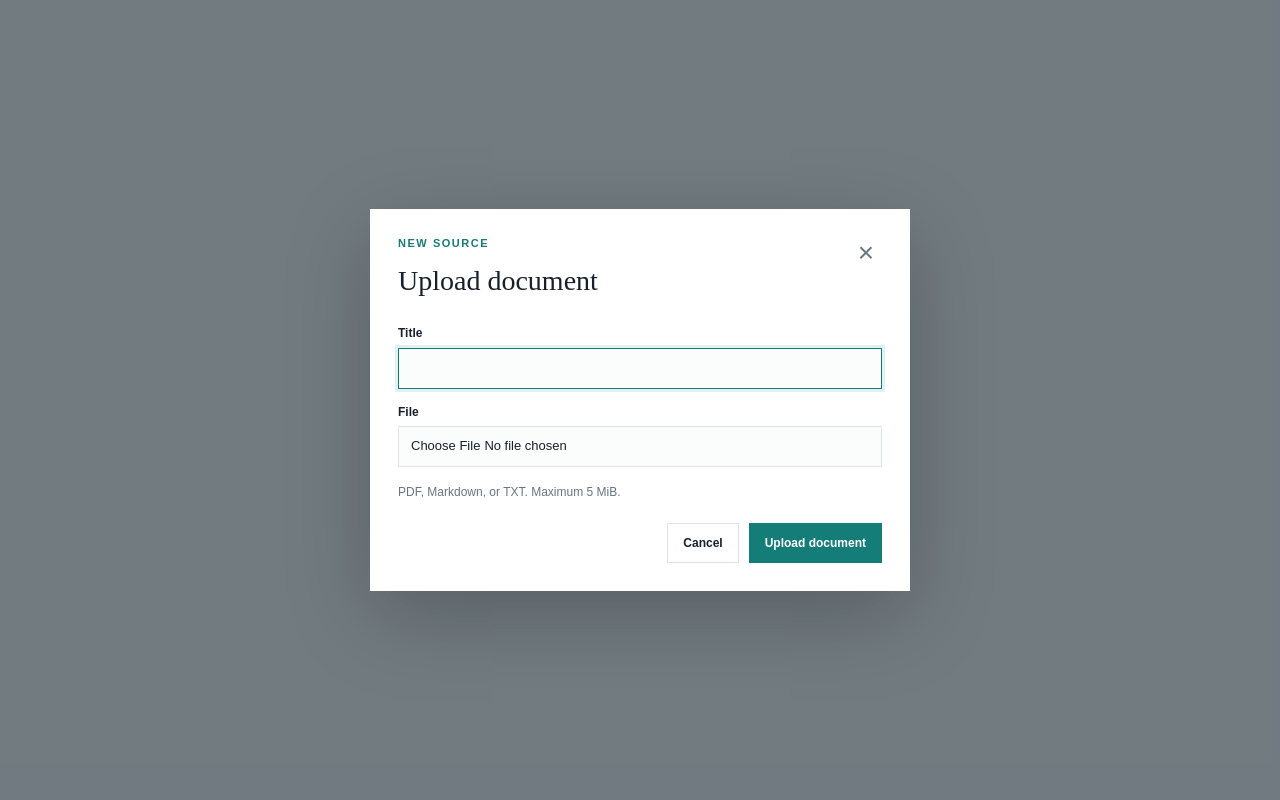
Test case: UploadDocumentDialog › validates required title and file
Click the button "Upload document": (815, 543) [749, 523, 882, 563]
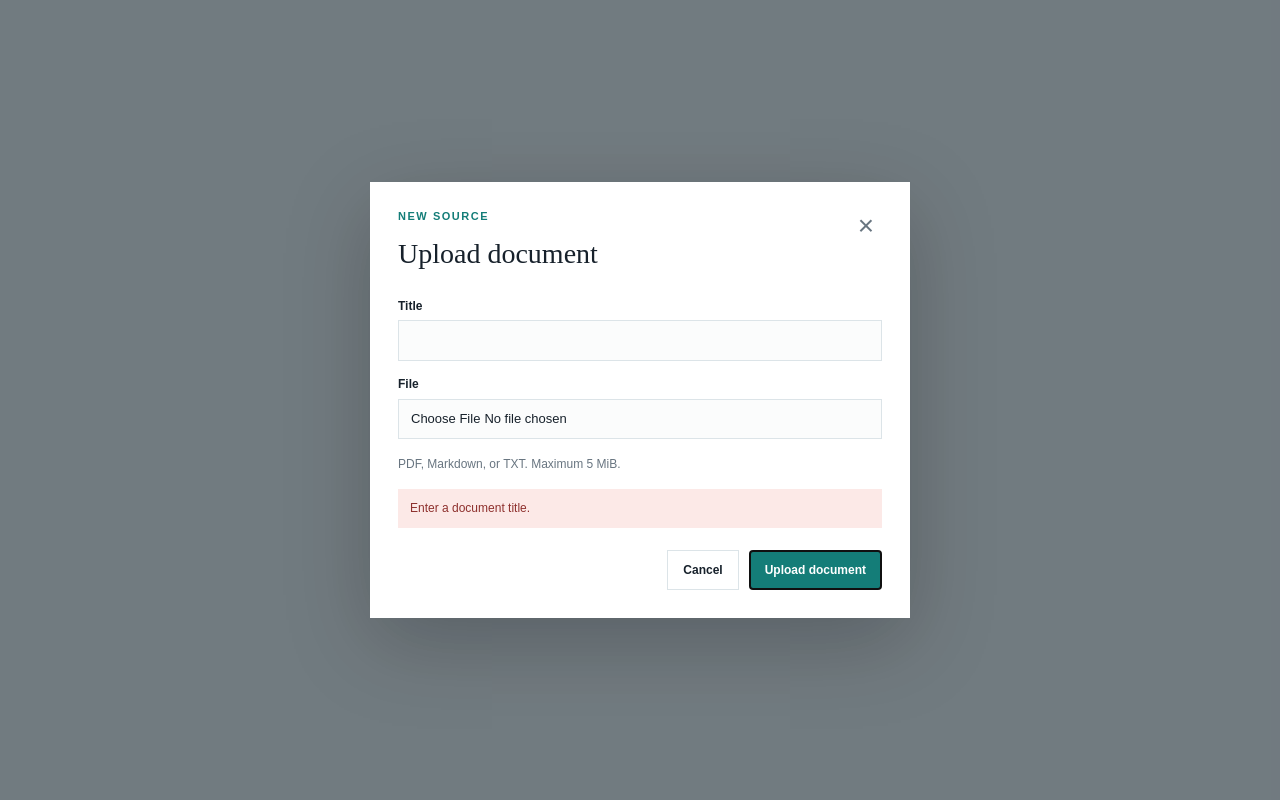
Expected: the message shows "title", [410, 502, 530, 516]
In the field labelled "Title": (640, 341) [398, 320, 882, 361], type "Guide"
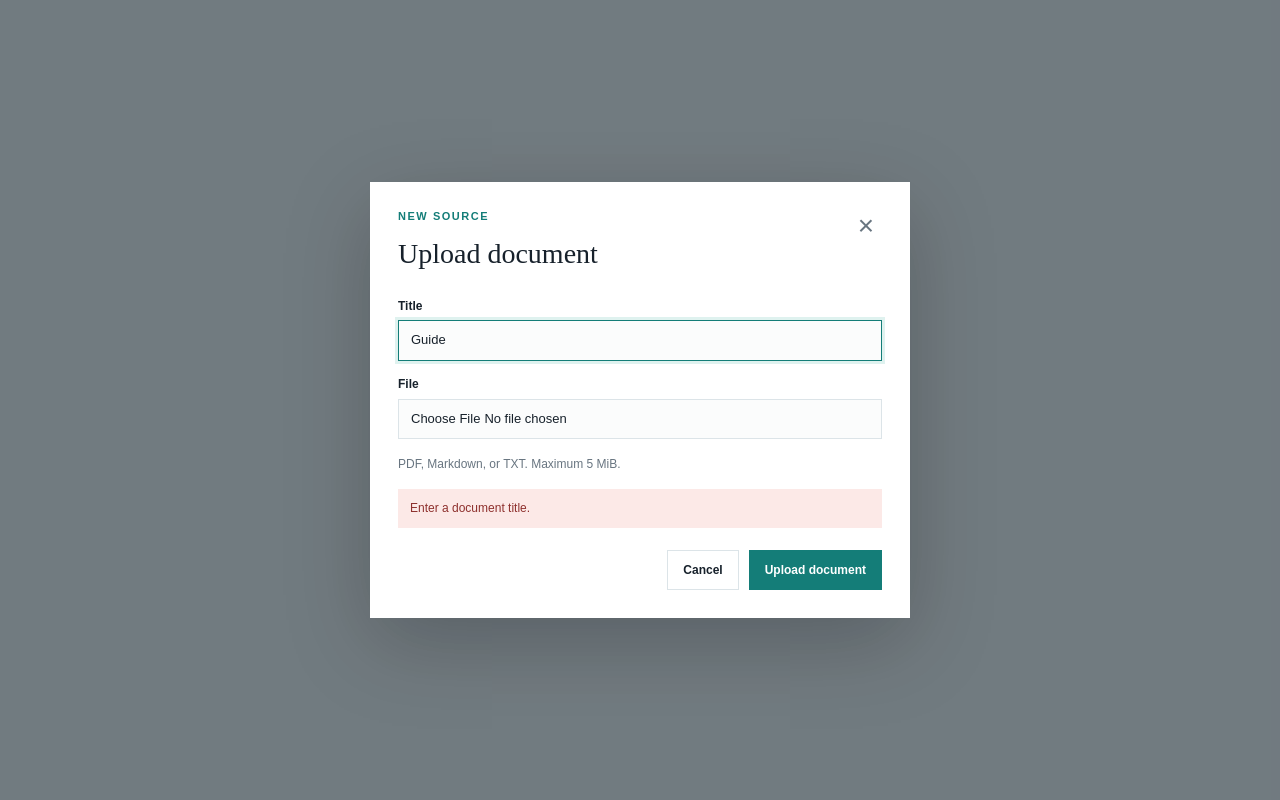
Click the button "Upload document": (815, 570) [749, 550, 882, 590]
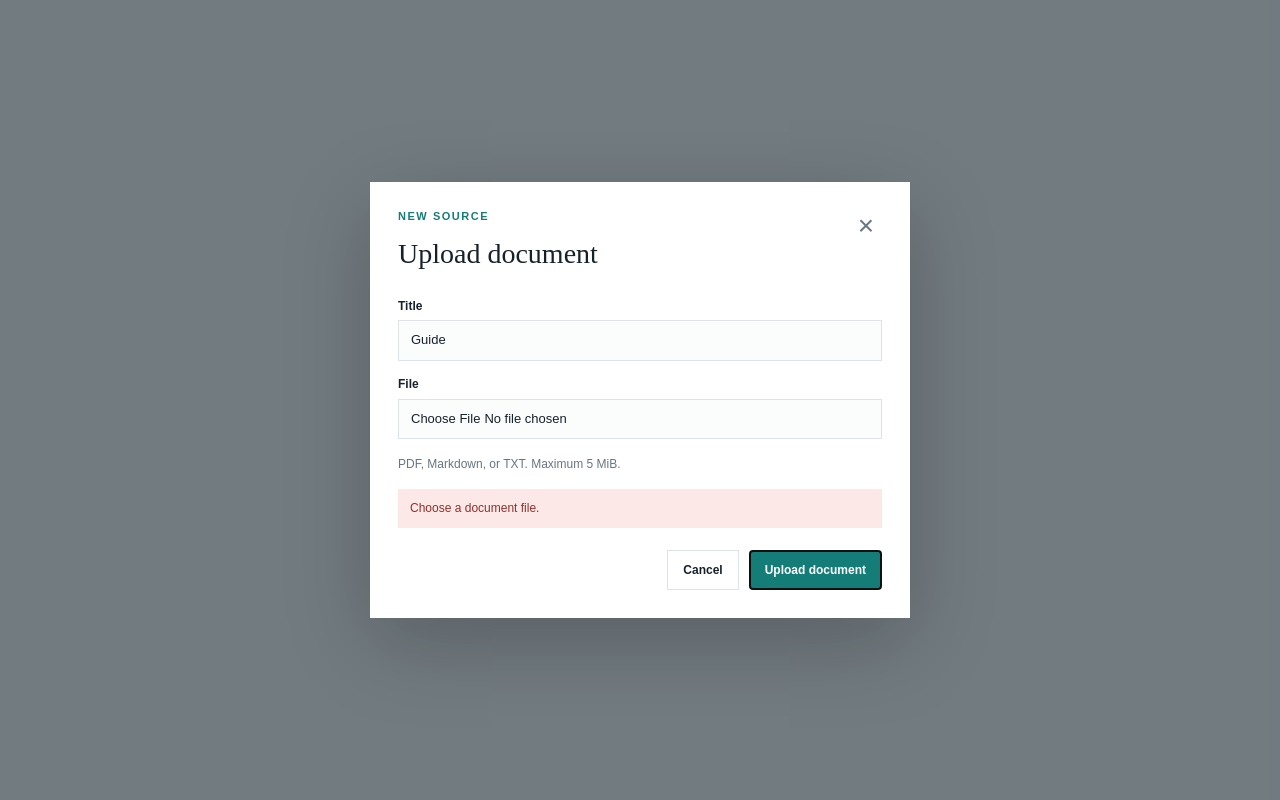
Expected: the message shows "Choose a document file", [410, 502, 539, 516]
